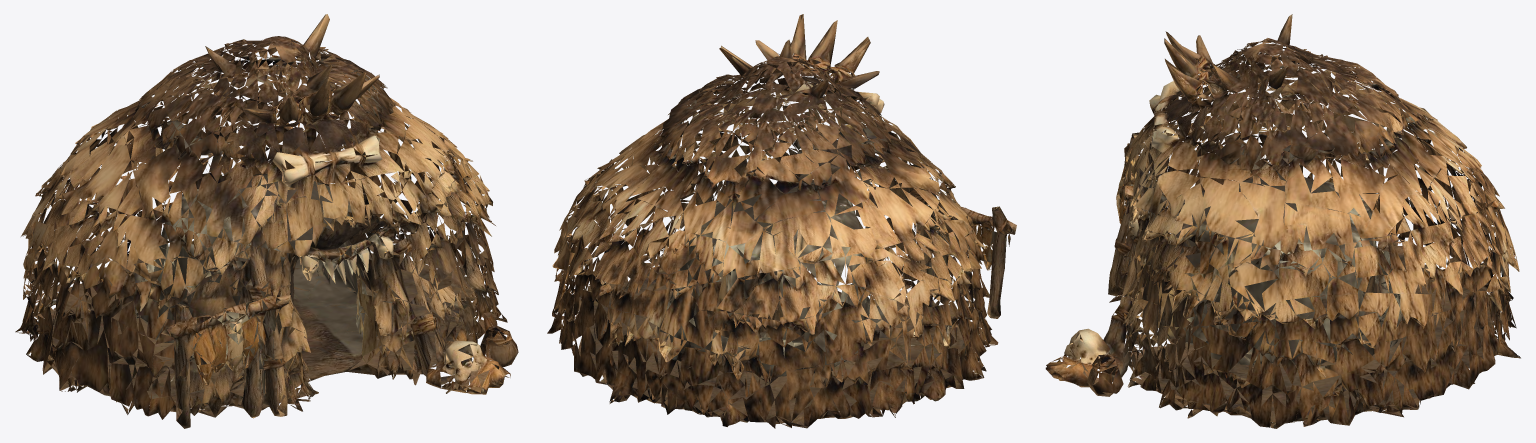
The model's file is zahnhaus2.glb.
3 views of the same model, side by side, from view 1: azimuth 30°, elevation 25°; view 2: azimuth 150°, elevation 25°; view 3: azimuth 270°, elevation 25° (orthographic). The views are drawn at different scales.
Size of the model in its own units: 1.89 by 1.28 by 1.88.
Materials: 1 (1 with a texture image).
